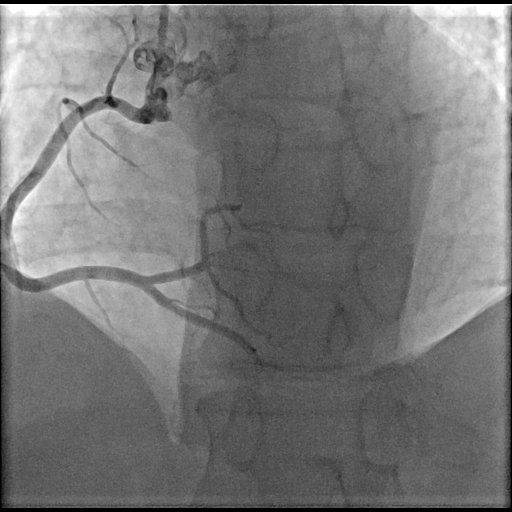RCA: (0, 83, 208, 324)
catherter: (149, 4, 171, 84)
